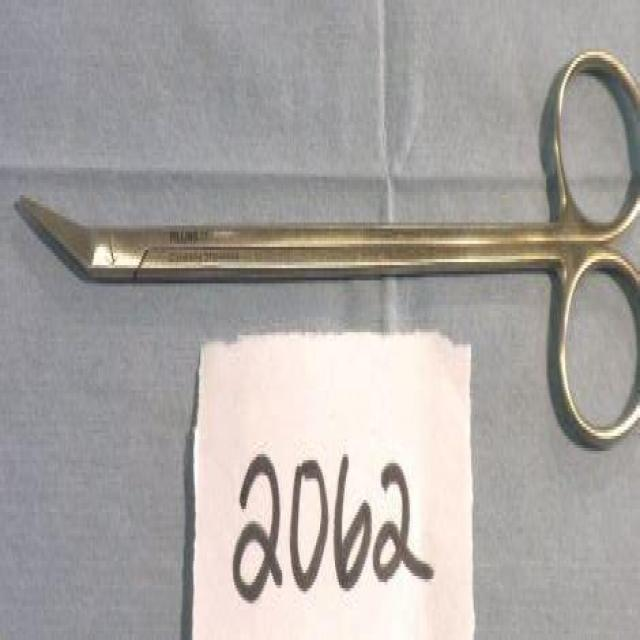Potts: (11, 40, 640, 458)
